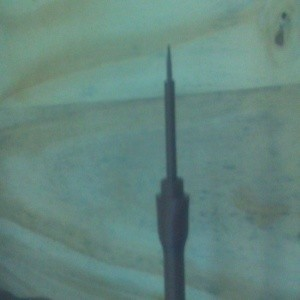solder: (154, 43, 190, 300)
